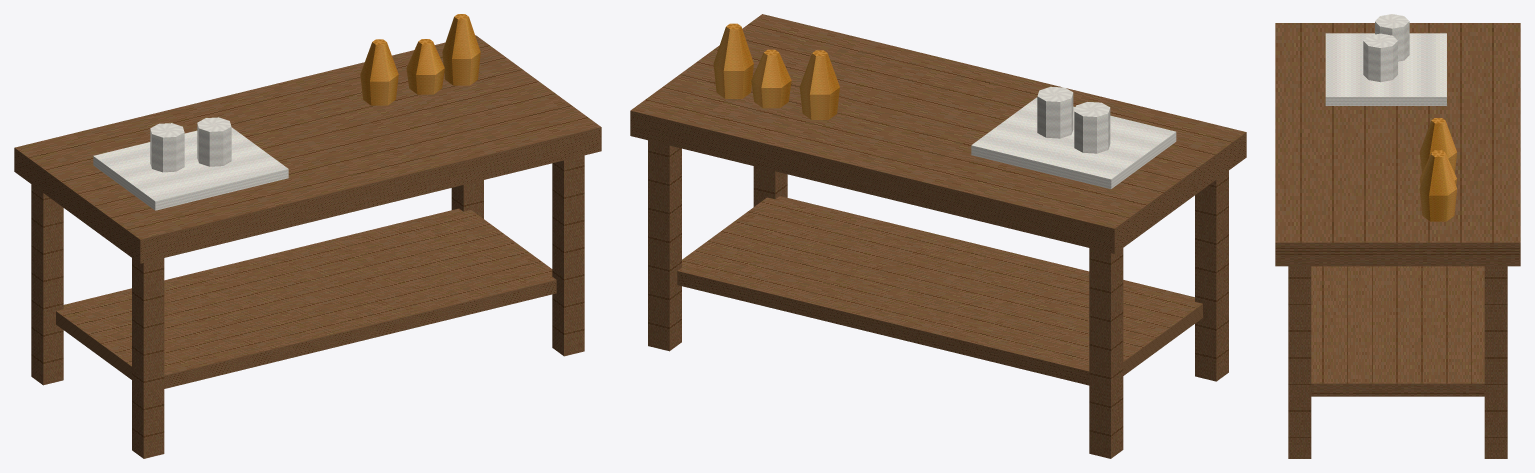
The model's file is mesa_de_cirurgiao.glb.
3 views of the same model, side by side, from view 1: azimuth 30°, elevation 25°; view 2: azimuth 150°, elevation 25°; view 3: azimuth 270°, elevation 25° (orthographic). The views are drawn at different scales.
Visible parts, largest first — view 1: mesa_de_cirurgiao; view 2: mesa_de_cirurgiao; view 3: mesa_de_cirurgiao.
Boxes of the visible parts, box(x1,y1,x2,y2) form: mesa_de_cirurgiao: box(14, 14, 601, 458); mesa_de_cirurgiao: box(630, 14, 1246, 458); mesa_de_cirurgiao: box(1275, 14, 1520, 458).
Size of the model in its own units: 1.8 by 1.08 by 0.85.
1 material, 1 textured.
